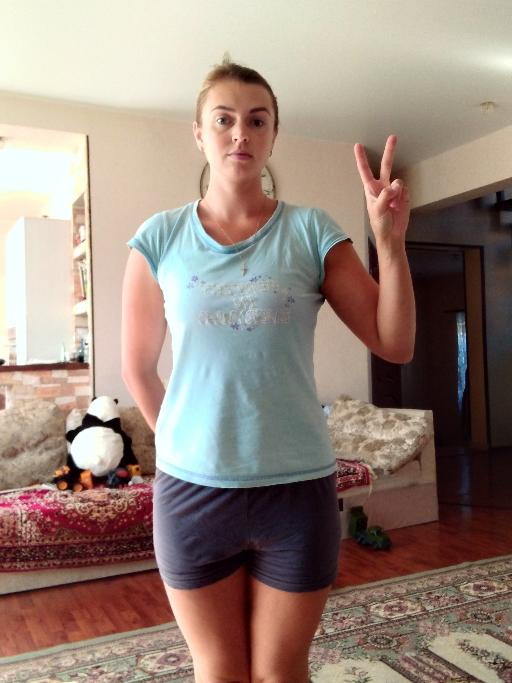peace: (351, 134, 414, 243)
